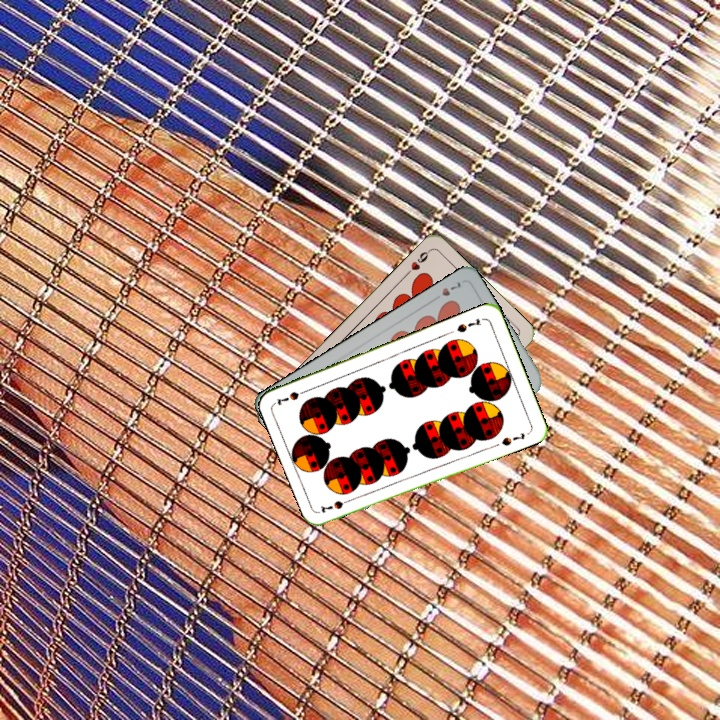H7: (428, 277, 463, 304)
H9: (401, 246, 433, 278)
S7: (316, 494, 355, 515), (453, 314, 483, 335)
